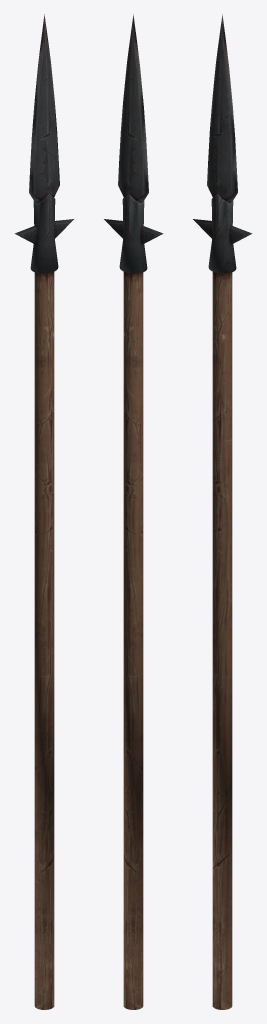
The model's file is spear.glb.
3 views of the same model, side by side, from view 1: azimuth 30°, elevation 25°; view 2: azimuth 150°, elevation 25°; view 3: azimuth 330°, elevation 25° (orthographic).
Visible parts, largest first — view 1: weapon_noesis_meshnode_0003; view 2: weapon_noesis_meshnode_0003; view 3: weapon_noesis_meshnode_0003.
Part boxes in pixels (box(x1,y1,x2,y2)): weapon_noesis_meshnode_0003: box(14, 14, 73, 1009); weapon_noesis_meshnode_0003: box(104, 14, 163, 1009); weapon_noesis_meshnode_0003: box(193, 14, 252, 1009).
Bounding box in the file's own units: 13.73 × 216 × 5.16.
Materials: 1 (1 with a texture image).
